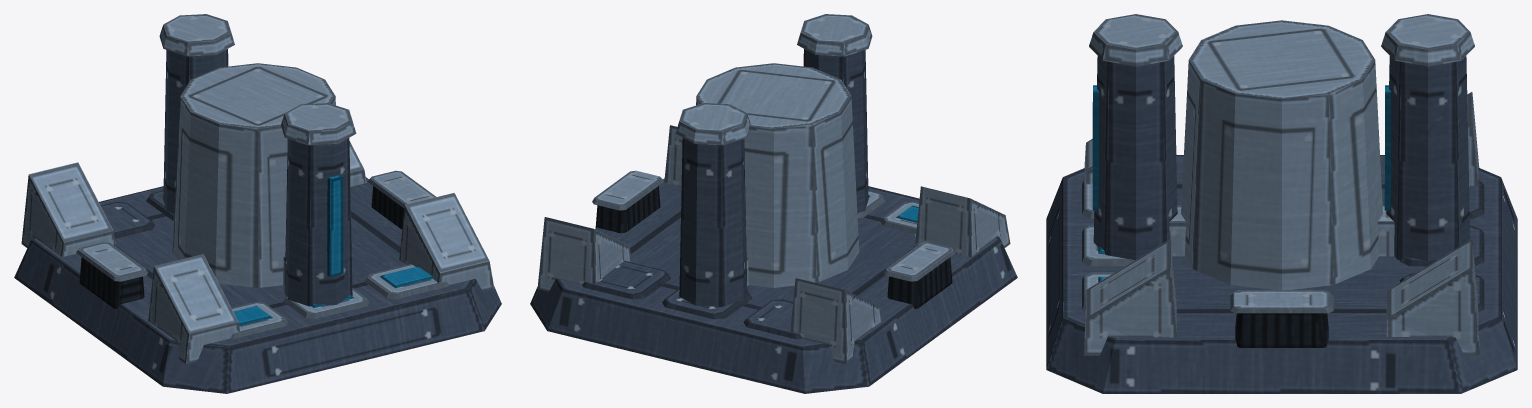
Rendered from building-fuel_storage.fbx.
The picture shows the model from 3 angles, left to right: view 1: azimuth 30°, elevation 25°; view 2: azimuth 150°, elevation 25°; view 3: azimuth 270°, elevation 25°; orthographic projection. The views are drawn at different scales.
Visible parts, largest first — view 1: building-fuel_storage; view 2: building-fuel_storage; view 3: building-fuel_storage.
Boxes of the visible parts, <box> form: building-fuel_storage: <box>14,14,501,393</box>; building-fuel_storage: <box>530,14,1017,393</box>; building-fuel_storage: <box>1046,14,1517,393</box>.
Size of the model in its own units: 1456 by 895 by 1456.
Materials: 1 (1 with a texture image).
